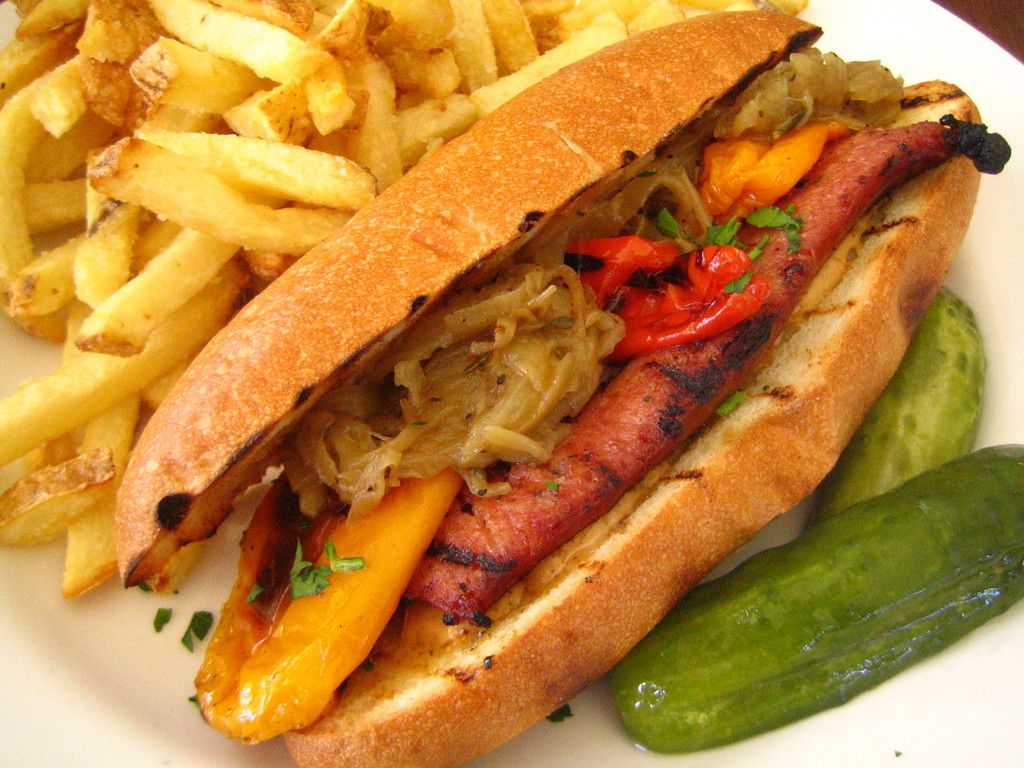French fries: (0, 0, 807, 603)
